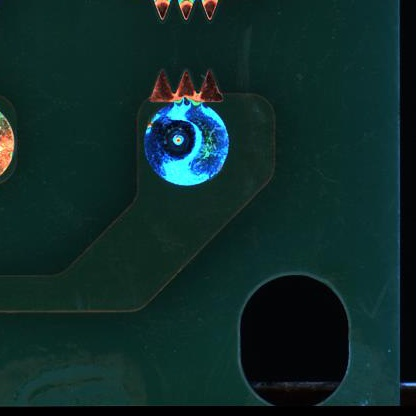spot: (136, 94, 235, 188)
